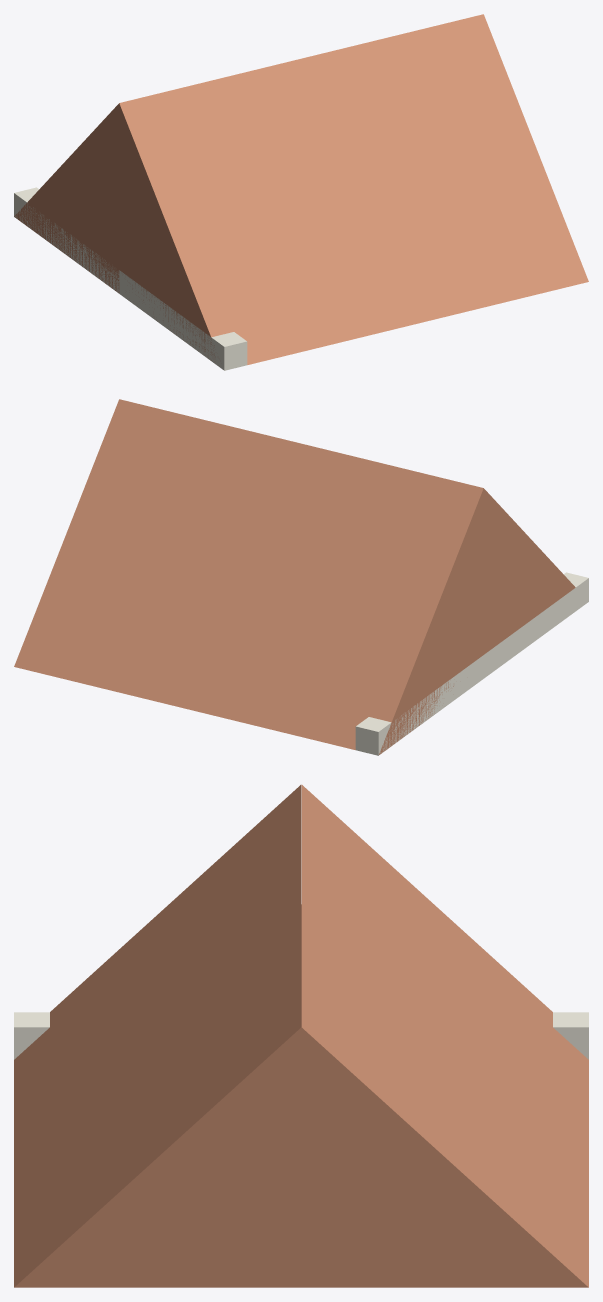
The model's file is kit_roof_pitched_end_warm.glb.
The picture shows the model from 3 angles, top to bottom: view 1: azimuth 30°, elevation 25°; view 2: azimuth 150°, elevation 25°; view 3: azimuth 270°, elevation 25°; orthographic projection. The views are drawn at different scales.
Visible parts, largest first — view 1: kit_roof_pitched_end_warm-col; view 2: kit_roof_pitched_end_warm-col; view 3: kit_roof_pitched_end_warm-col.
Boxes of the visible parts, bbox=[...] form: kit_roof_pitched_end_warm-col: bbox=[14, 14, 588, 370]; kit_roof_pitched_end_warm-col: bbox=[14, 399, 588, 755]; kit_roof_pitched_end_warm-col: bbox=[14, 784, 588, 1287].
Bounding box in the file's own units: 2 × 1 × 2.
